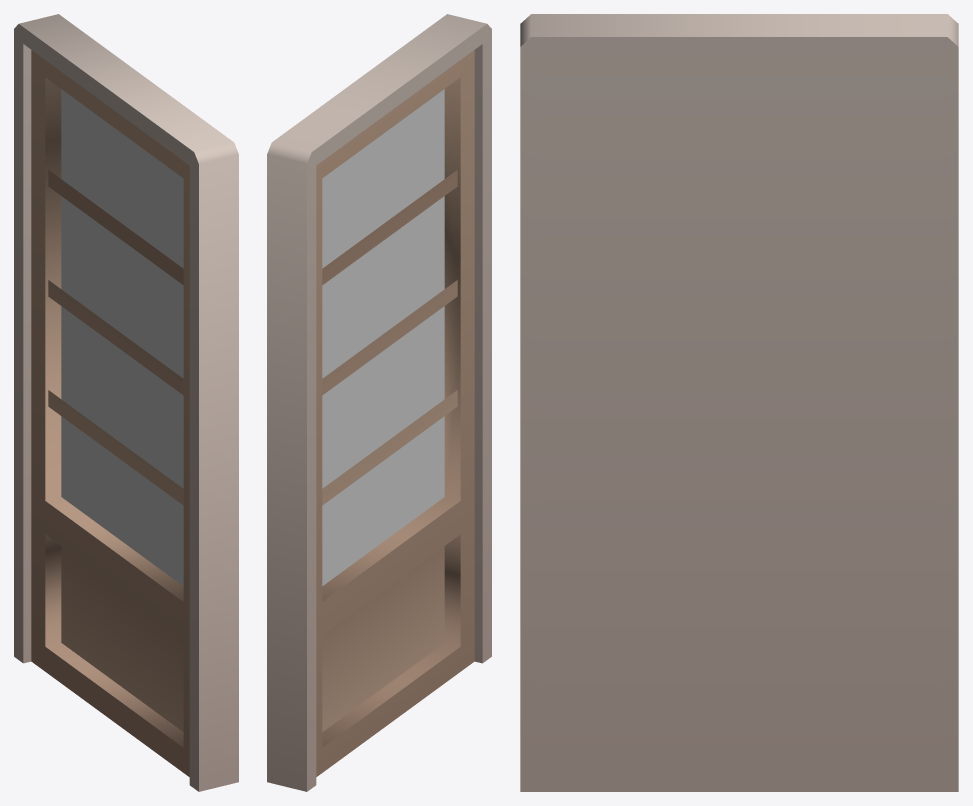
File: door-shoji-panel-horizontal (%wall).glb
3 views of the same model, side by side, from view 1: azimuth 30°, elevation 25°; view 2: azimuth 150°, elevation 25°; view 3: azimuth 270°, elevation 25° (orthographic). The views are drawn at different scales.
Visible parts, largest first — view 1: door-shoji-panel-horizontal (%wall); view 2: door-shoji-panel-horizontal (%wall); view 3: door-shoji-panel-horizontal (%wall).
Boxes of the visible parts, x1=… form: door-shoji-panel-horizontal (%wall): x1=14, y1=14, x2=238, y2=791; door-shoji-panel-horizontal (%wall): x1=267, y1=14, x2=491, y2=791; door-shoji-panel-horizontal (%wall): x1=520, y1=14, x2=958, y2=791.
Bounding box in the file's own units: 0.125 × 1.9 × 1.
